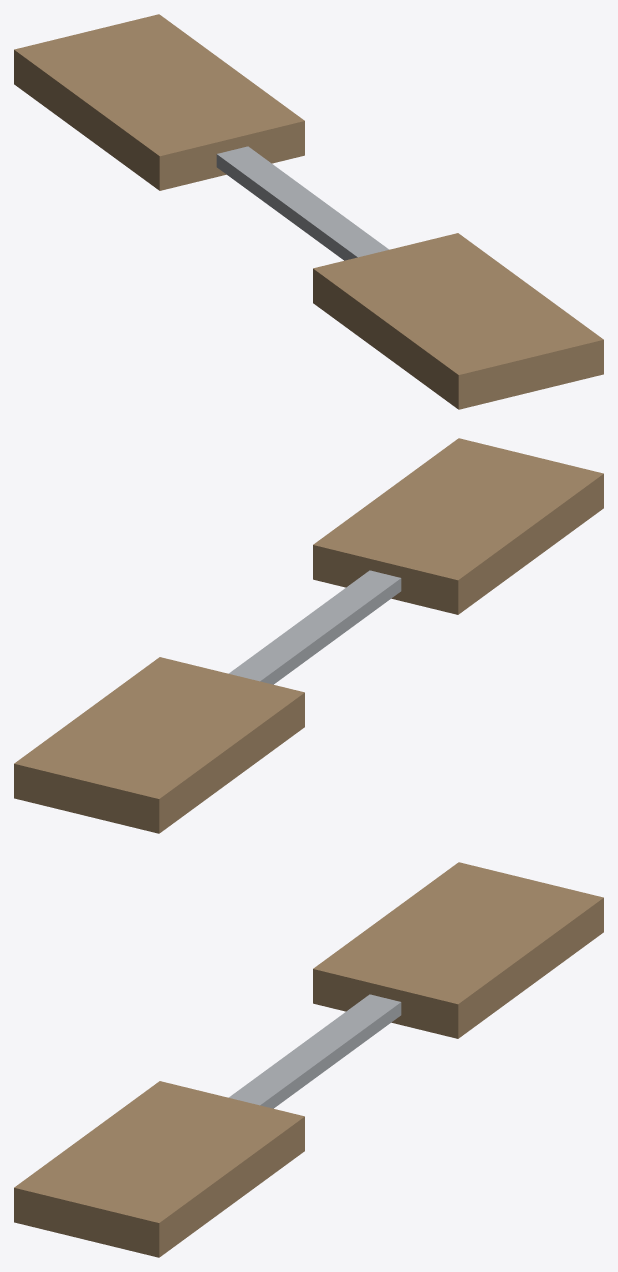
File: Sleeper_1.fbx
3 renders of one model, top to bottom at view 1: azimuth 30°, elevation 25°; view 2: azimuth 150°, elevation 25°; view 3: azimuth 330°, elevation 25°, orthographic.
Parts seen in each view (by area): view 1: Sleeper_1; view 2: Sleeper_1; view 3: Sleeper_1.
Boxes of the visible parts, <box> form: Sleeper_1: <box>14,14,603,409</box>; Sleeper_1: <box>14,438,603,833</box>; Sleeper_1: <box>14,862,603,1257</box>.
Size of the model in its own units: 0.46 by 0.105 by 2.44.
